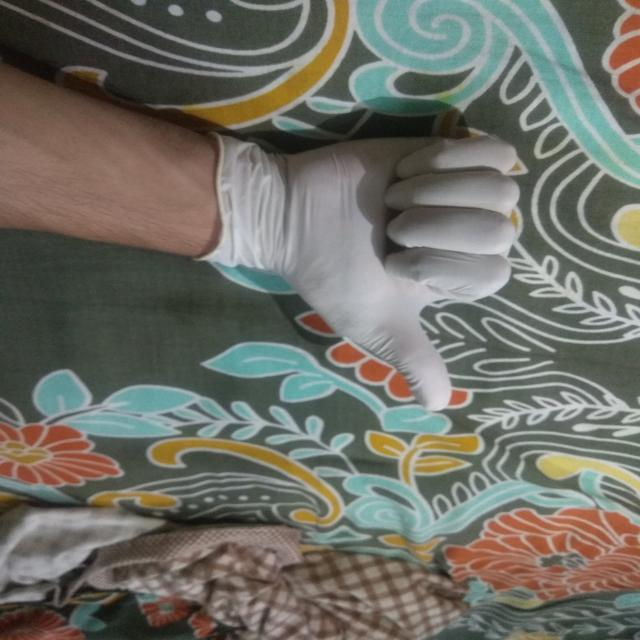gloved_hand: (190, 113, 528, 420)
